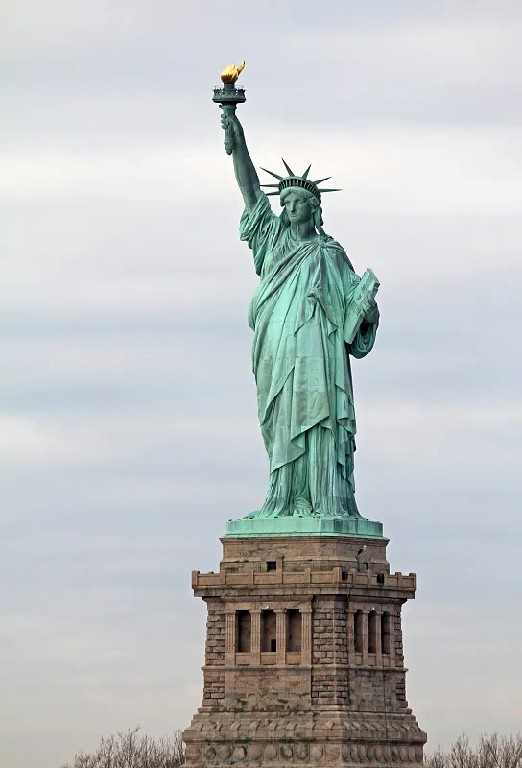SL: (182, 60, 428, 768)
